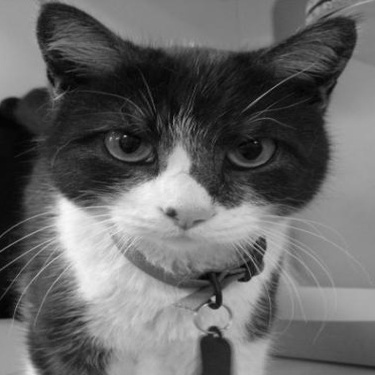cat: (1, 4, 348, 355)
